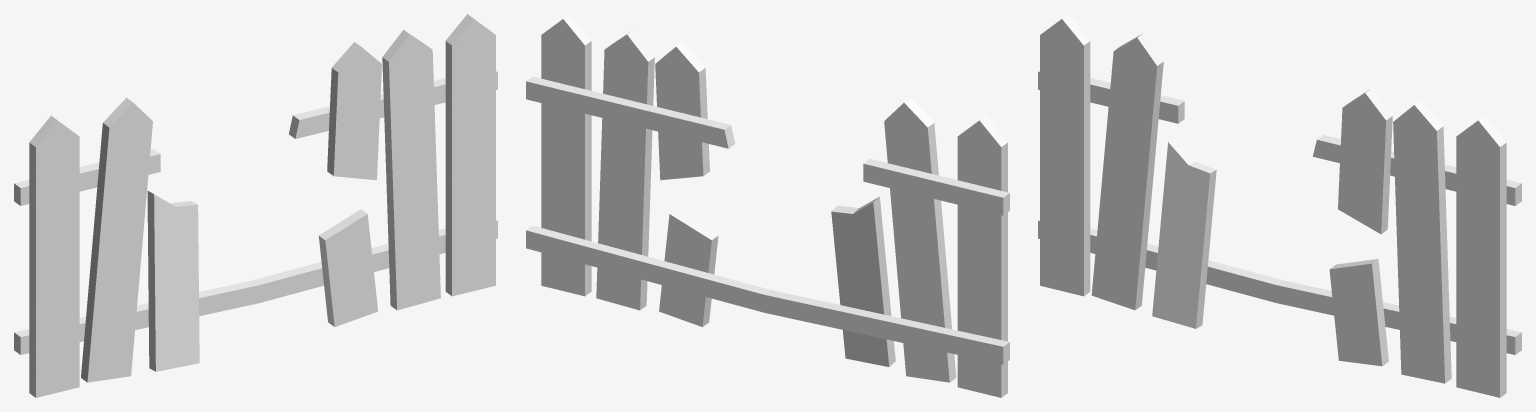
File: fence-picket-broken.glb
The picture shows the model from 3 angles, left to right: view 1: azimuth 30°, elevation 25°; view 2: azimuth 150°, elevation 25°; view 3: azimuth 330°, elevation 25°; orthographic projection.
Visible parts, largest first — view 1: fence-picket-broken; view 2: fence-picket-broken; view 3: fence-picket-broken.
Part boxes in pixels (box(x1,y1,x2,y2)): fence-picket-broken: box(14, 14, 497, 397); fence-picket-broken: box(526, 14, 1009, 397); fence-picket-broken: box(1038, 14, 1521, 397).
Bounding box in the file's own units: 2 × 1.1 × 0.1247.
1 material, 1 textured.
